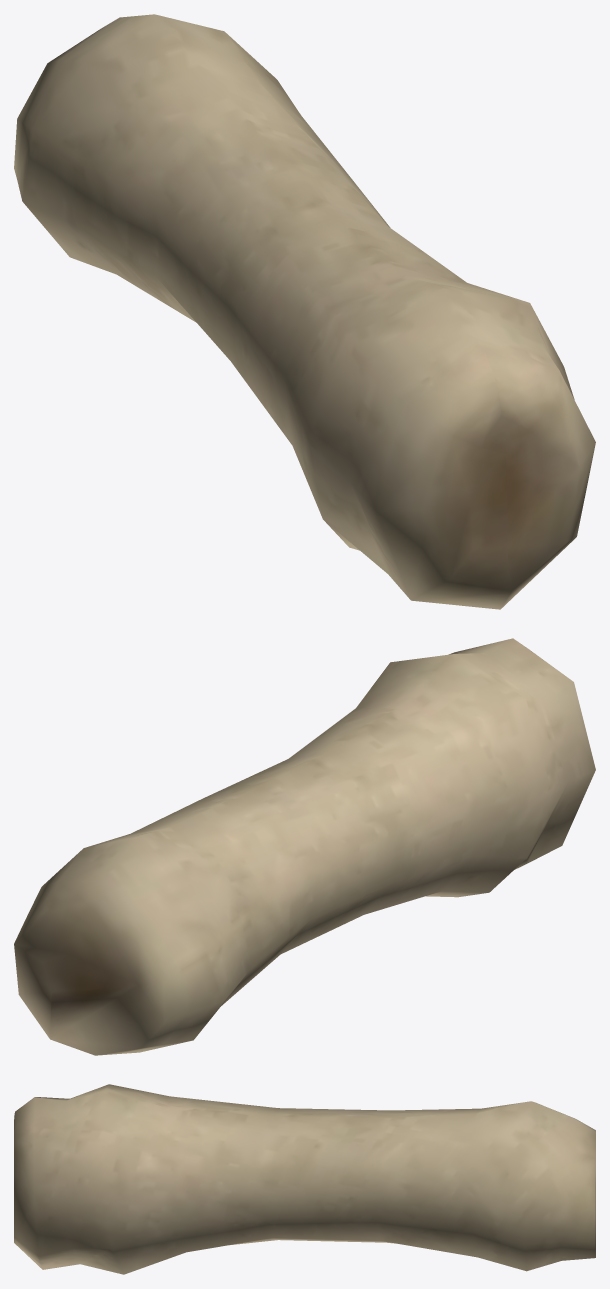
File: Caudal_Vertebrae13.glb
The picture shows the model from 3 angles, top to bottom: view 1: azimuth 30°, elevation 25°; view 2: azimuth 150°, elevation 25°; view 3: azimuth 270°, elevation 25°; orthographic projection. The views are drawn at different scales.
Parts seen in each view (by area): view 1: Caudal_Vertebrae_32:Group49723; view 2: Caudal_Vertebrae_32:Group49723; view 3: Caudal_Vertebrae_32:Group49723.
Boxes of the visible parts, left/top/right/bottom form: Caudal_Vertebrae_32:Group49723: left=14, top=14, right=595, bottom=609; Caudal_Vertebrae_32:Group49723: left=14, top=638, right=595, bottom=1055; Caudal_Vertebrae_32:Group49723: left=14, top=1084, right=595, bottom=1274.
Bounding box in the file's own units: 6.24 × 5.86 × 16.88.
Materials: 1 (1 with a texture image).
